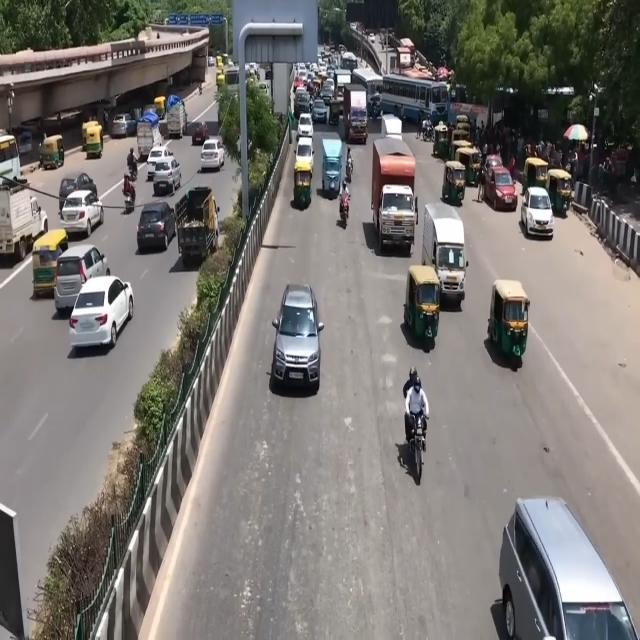auto: (488, 278, 530, 362), (404, 264, 440, 346), (32, 228, 68, 296), (39, 134, 64, 170), (82, 122, 103, 158), (154, 96, 166, 120)
bike-auto: (398, 362, 441, 496), (292, 151, 314, 221), (293, 142, 314, 208), (338, 191, 351, 227), (123, 173, 135, 207), (127, 148, 138, 180), (346, 154, 354, 183)
